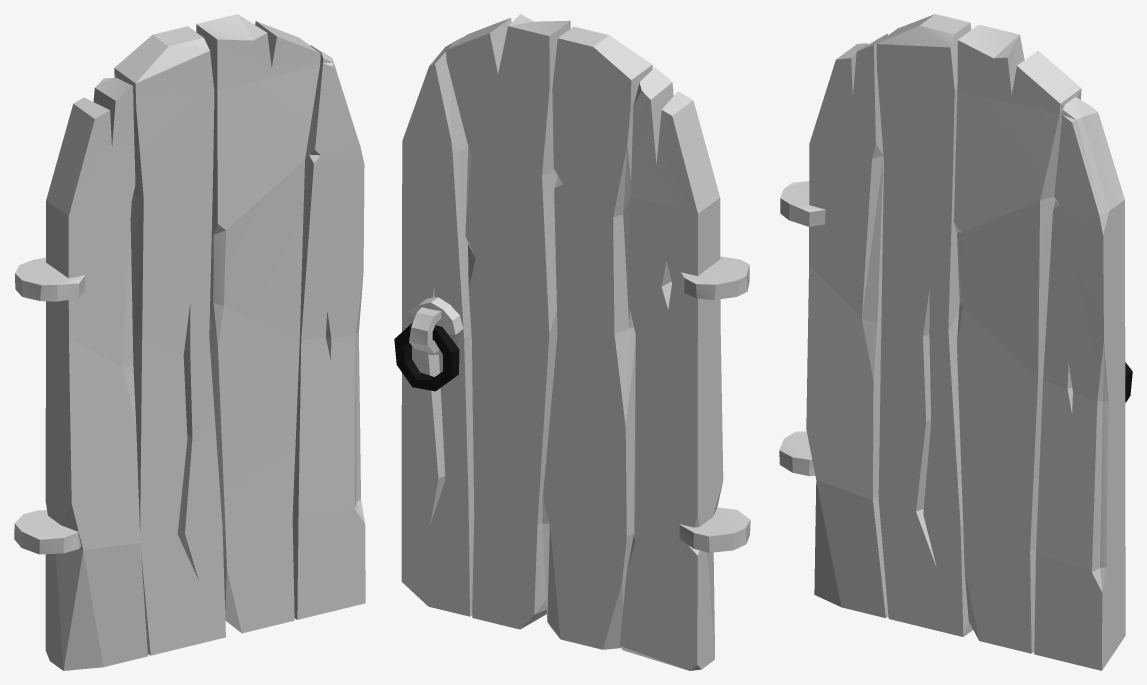
Rendered from NGF_Env_Door_07.fbx.
3 renders of one model, left to right at view 1: azimuth 30°, elevation 25°; view 2: azimuth 150°, elevation 25°; view 3: azimuth 330°, elevation 25°, orthographic.
Visible parts, largest first — view 1: NGF_Env_Door_07, NGF_Env_Hinges_17; view 2: NGF_Env_Door_07, NGF_Env_Hinges_17, NGF_Env_Handle_09, NGF_Env_Handle_attachment_09; view 3: NGF_Env_Door_07, NGF_Env_Hinges_17.
Boxes of the visible parts, x1,y1,x2,y2 form: NGF_Env_Door_07: (45, 14, 365, 670); NGF_Env_Hinges_17: (14, 257, 85, 554); NGF_Env_Door_07: (401, 14, 723, 670); NGF_Env_Hinges_17: (679, 256, 750, 552); NGF_Env_Handle_09: (394, 322, 459, 391); NGF_Env_Handle_attachment_09: (407, 297, 463, 354); NGF_Env_Door_07: (806, 14, 1125, 670); NGF_Env_Hinges_17: (779, 181, 825, 476).
Bounding box in the file's own units: 1.35 × 2.32 × 0.3365.
Materials: 1 (1 with a texture image).
